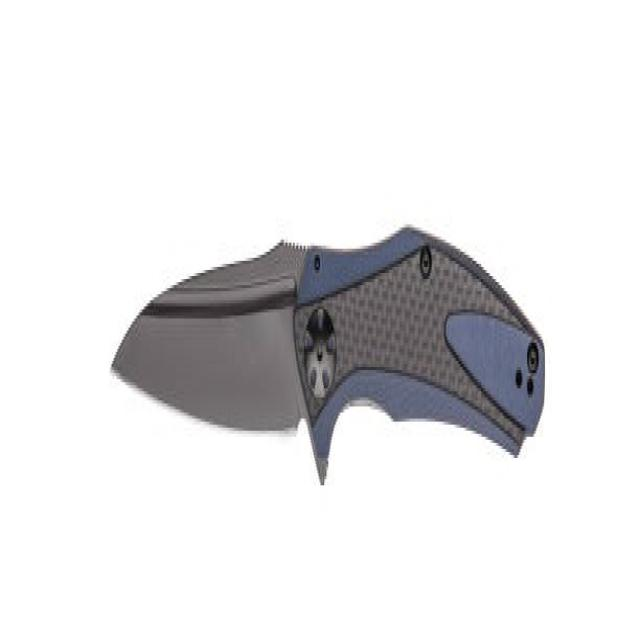knife: (109, 218, 546, 491)
